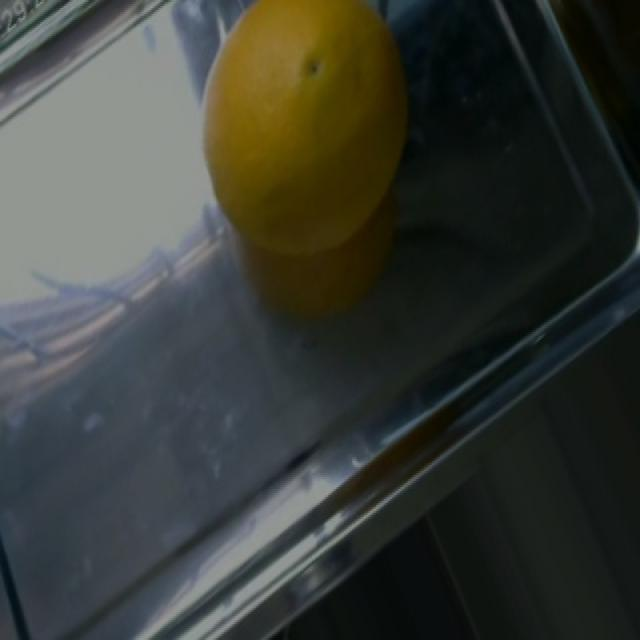Fruit: (190, 0, 438, 316)
